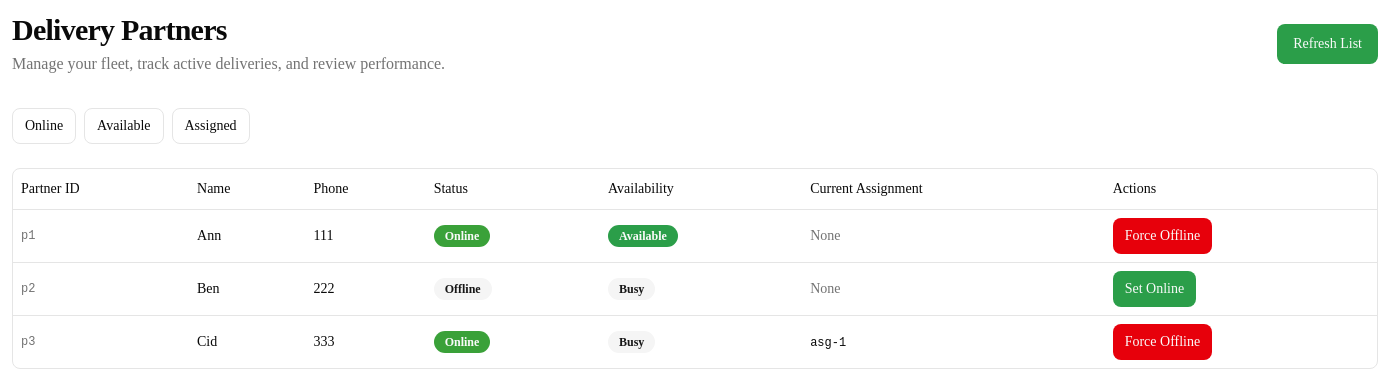
Test: DeliveryPartners page (Req 14.3, 14.5) › shows only online partners when the Online filter is selected (Req 14.3)
Expected: the text "Ann" is shown, 189,209 -> 306,262
Click the button "Online" at (44, 126), box 12,108 -> 76,144
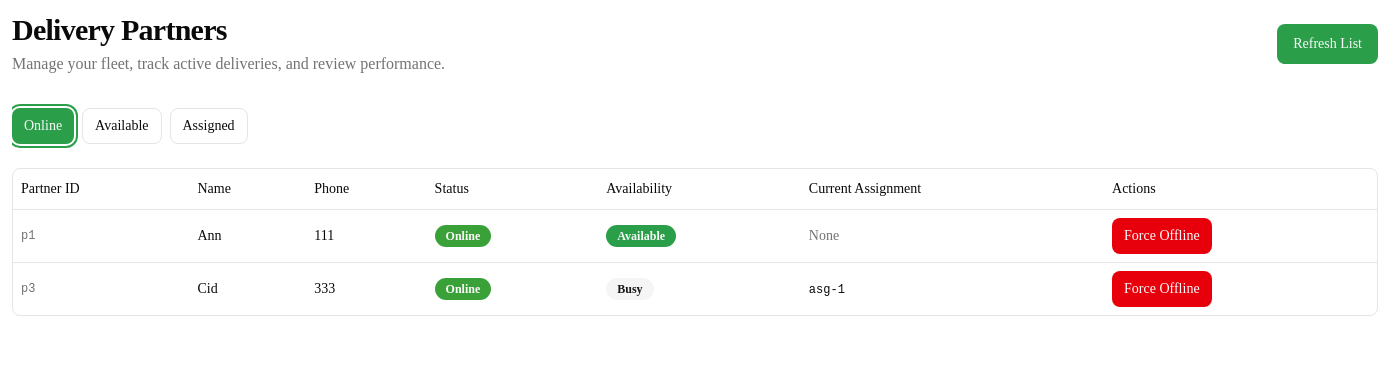
Expected: the text "Ann" is shown, 189,209 -> 306,262
Expected: the text "Cid" is shown, 189,262 -> 306,314
Expected: the text "Ben" is gone
